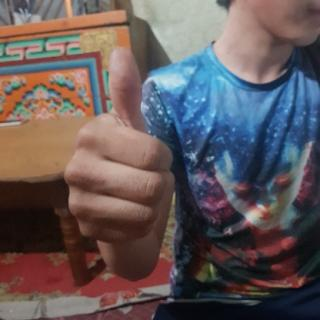ALIF: (60, 45, 185, 255)
